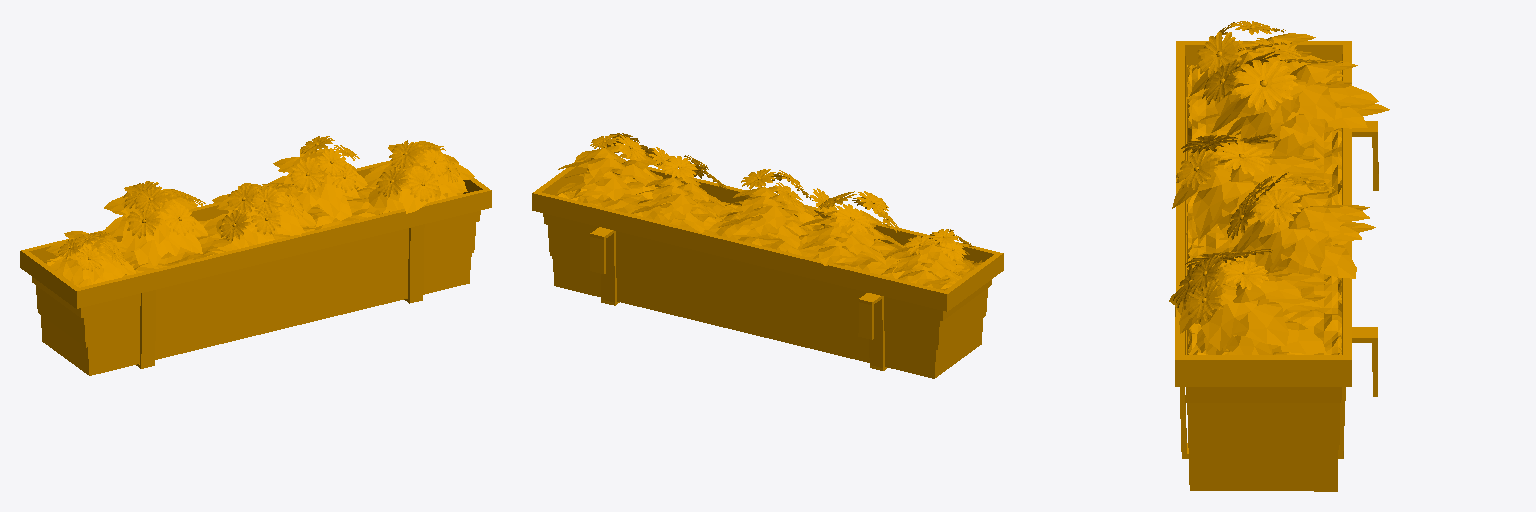
robot.urdf — none:
<robot name="none">
       <link name="none">
           <visual>
               <origin rpy="1.57 0 0" xyz="0 0 0" />
               <geometry>
                   <mesh filename="flowerBox.obj" />
               </geometry>
           </visual>
          <collision>
              <geometry>
                  <box size="1.000000 0.341781 0.294432" />
              </geometry>
          </collision>

          <inertial>
            <mass value="0.0" />
            <inertia ixx="0.0" ixy="0.0" ixz="0.0" iyy="0.0" iyz="0.0" izz="0.0" />
          </inertial>
      </link>
  </robot>

--- Render facts (derived) ---
Views: 3 orthographic renders of the robot side by side, from view 1: azimuth 30°, elevation 25°; view 2: azimuth 150°, elevation 25°; view 3: azimuth 270°, elevation 25°.
Model none with 1 links and 0 joints (none), rooted at none, posed all joints at 0.
Visible links, largest first — view 1: none; view 2: none; view 3: none.
Link boxes in pixels (x1,y1,x2,y2): none: (20,136,491,375); none: (532,133,1003,378); none: (1169,21,1389,491).
Size in the robot's own frame: 1 by 0.2945 by 0.3418 metres.
1 mesh visuals loaded from 1 distinct referenced files (1 OBJ).